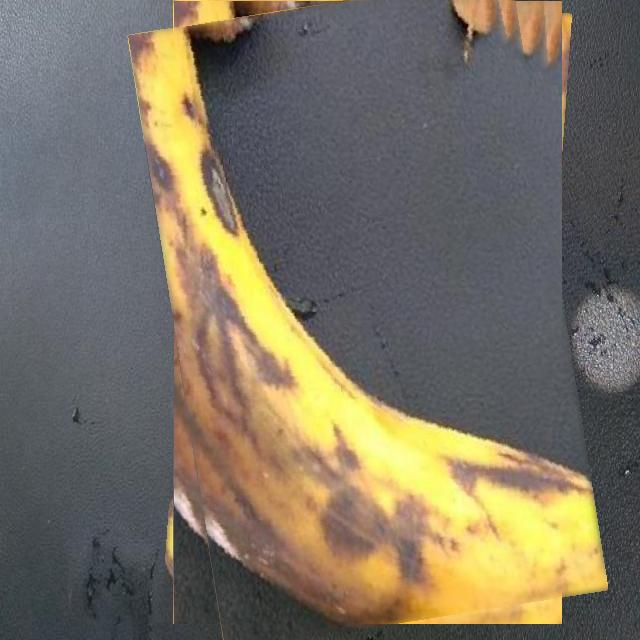Execivamente Madura: (150, 0, 585, 637)
